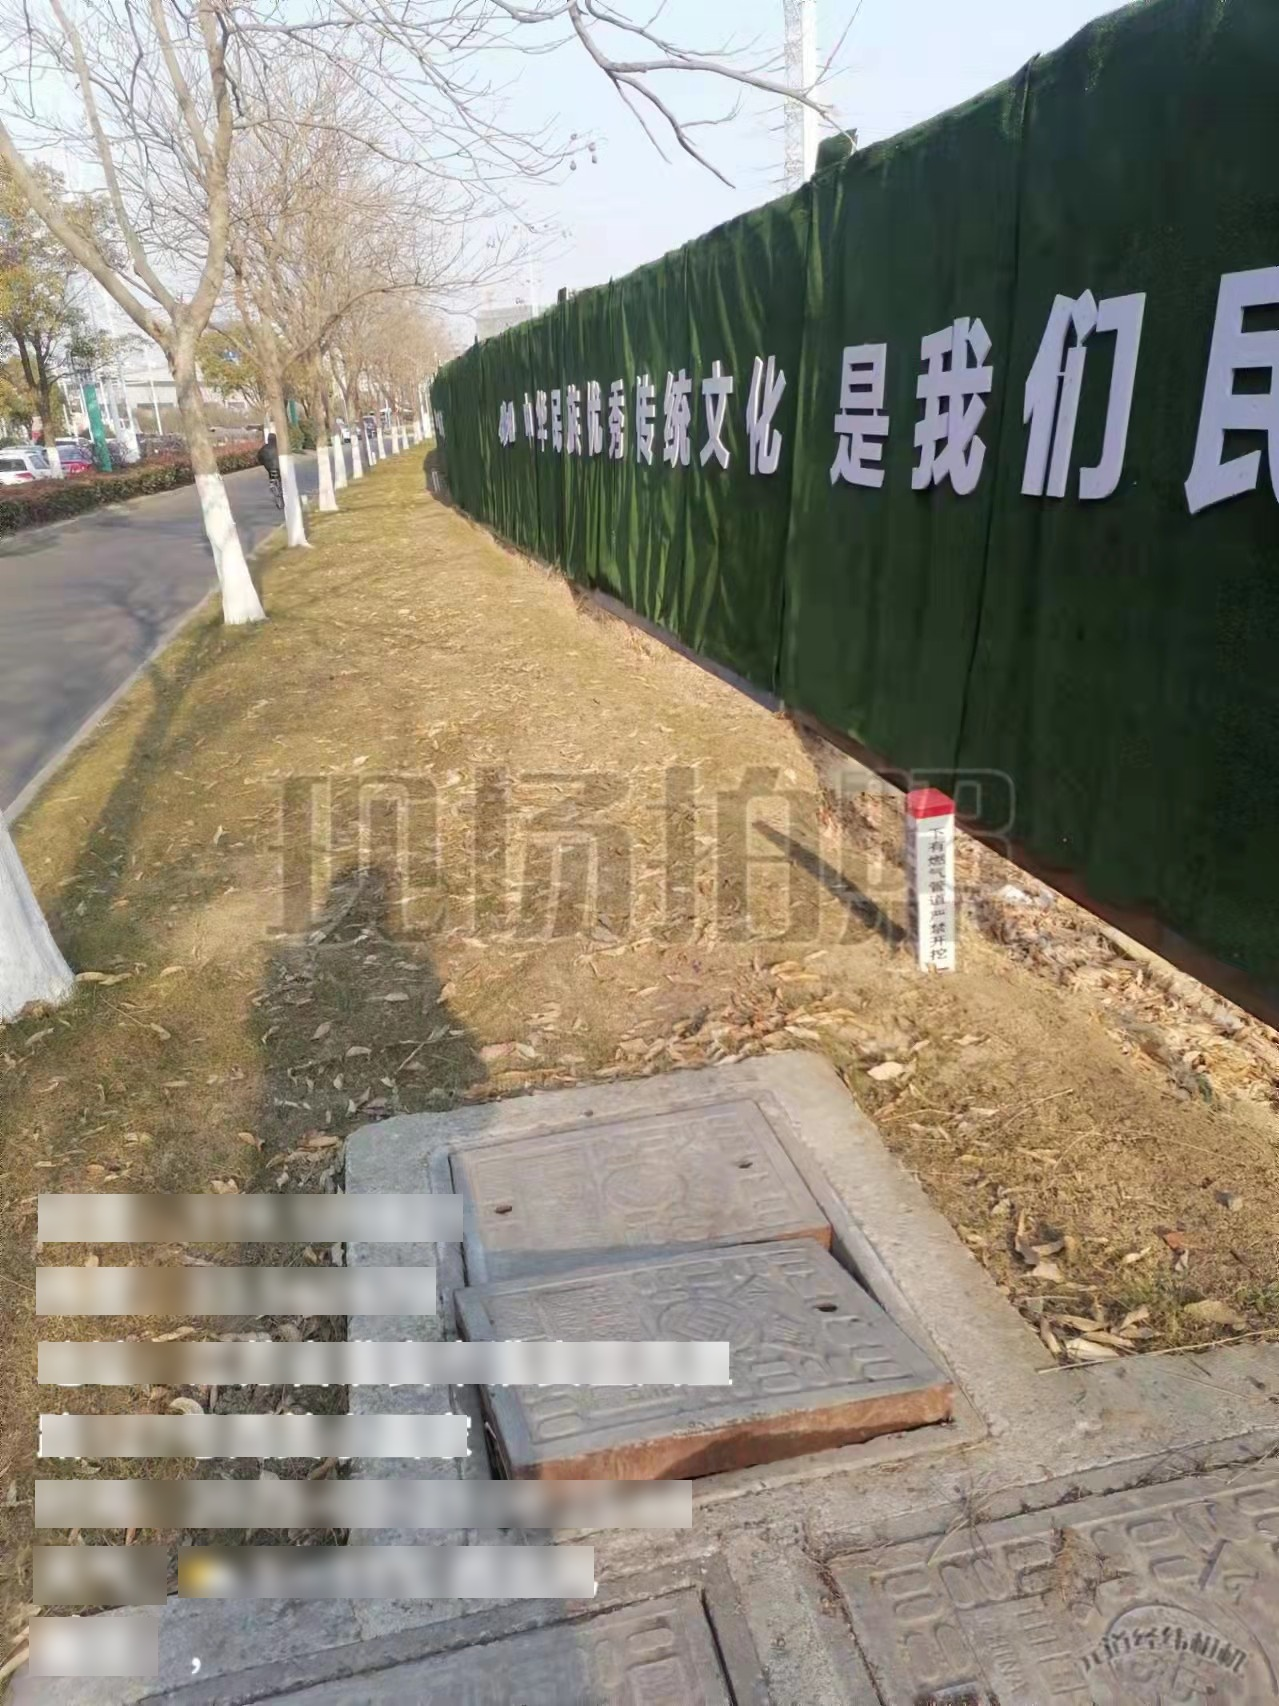well: (415, 1091, 994, 1482), (98, 1582, 867, 1706)
